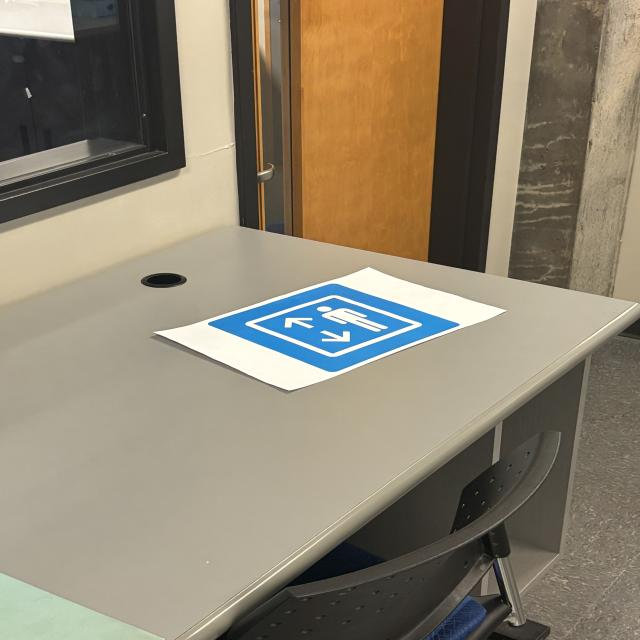elevator: (209, 281, 461, 374)
